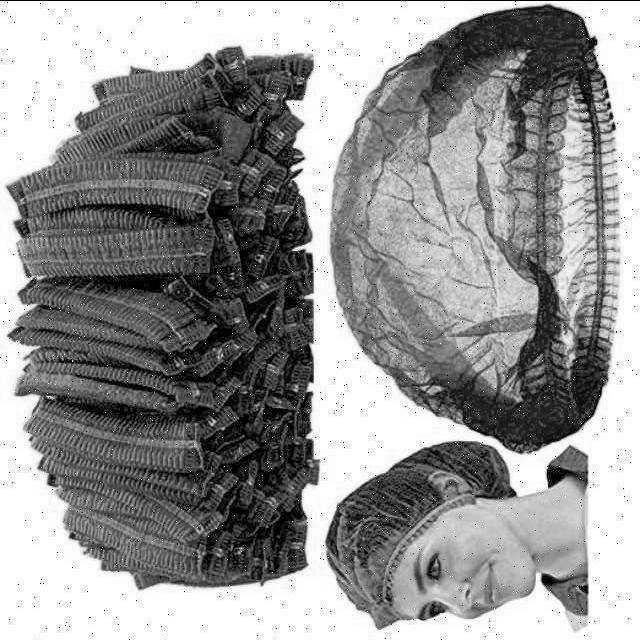gloves: (314, 0, 640, 444), (318, 459, 424, 640)
no_hairnet: (438, 544, 507, 610)
